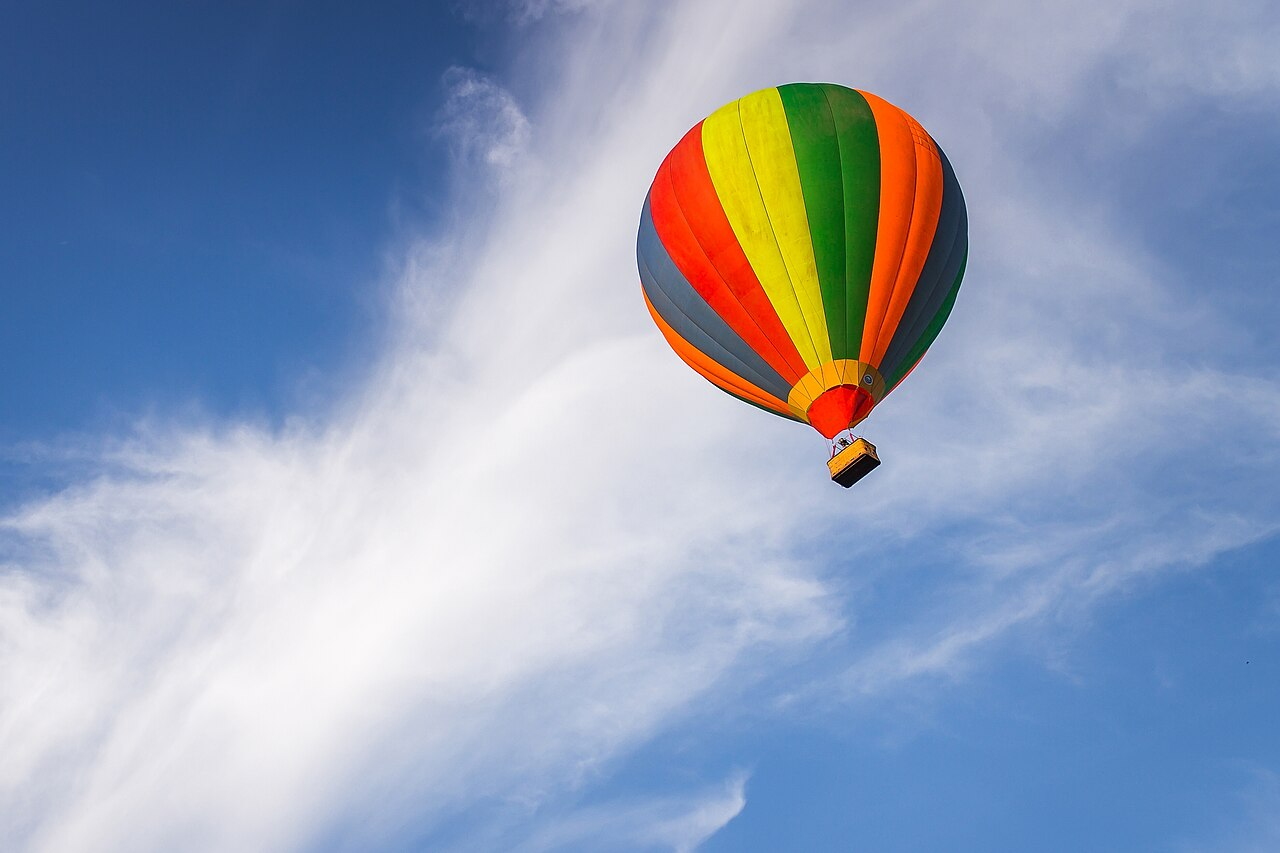balloon: (635, 78, 970, 517)
